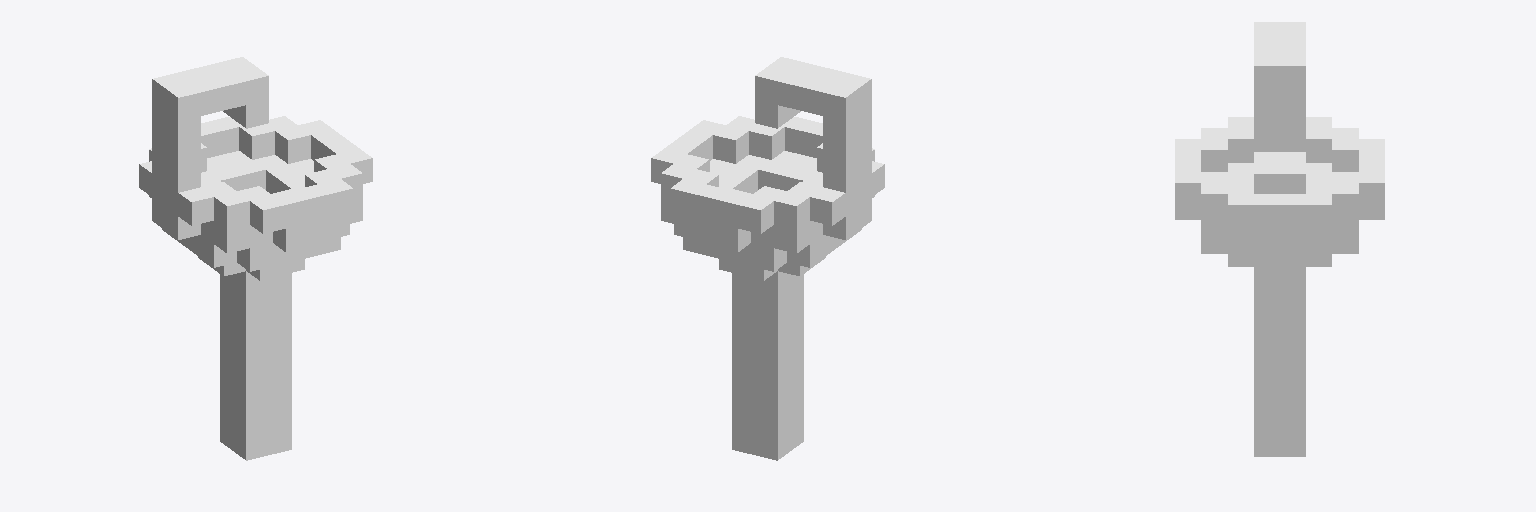
File: Bathroom_Sink_White.obj
3 views of the same model, side by side, from view 1: azimuth 30°, elevation 25°; view 2: azimuth 150°, elevation 25°; view 3: azimuth 270°, elevation 25° (orthographic).
Parts seen in each view (by area): view 1: Bathroom_Sink_White; view 2: Bathroom_Sink_White; view 3: Bathroom_Sink_White.
Part boxes in pixels (x1,y1,x2,y2): Bathroom_Sink_White: (139,57,372,460); Bathroom_Sink_White: (651,57,884,460); Bathroom_Sink_White: (1175,22,1384,456).
Size of the model in its own units: 8 by 16 by 8.